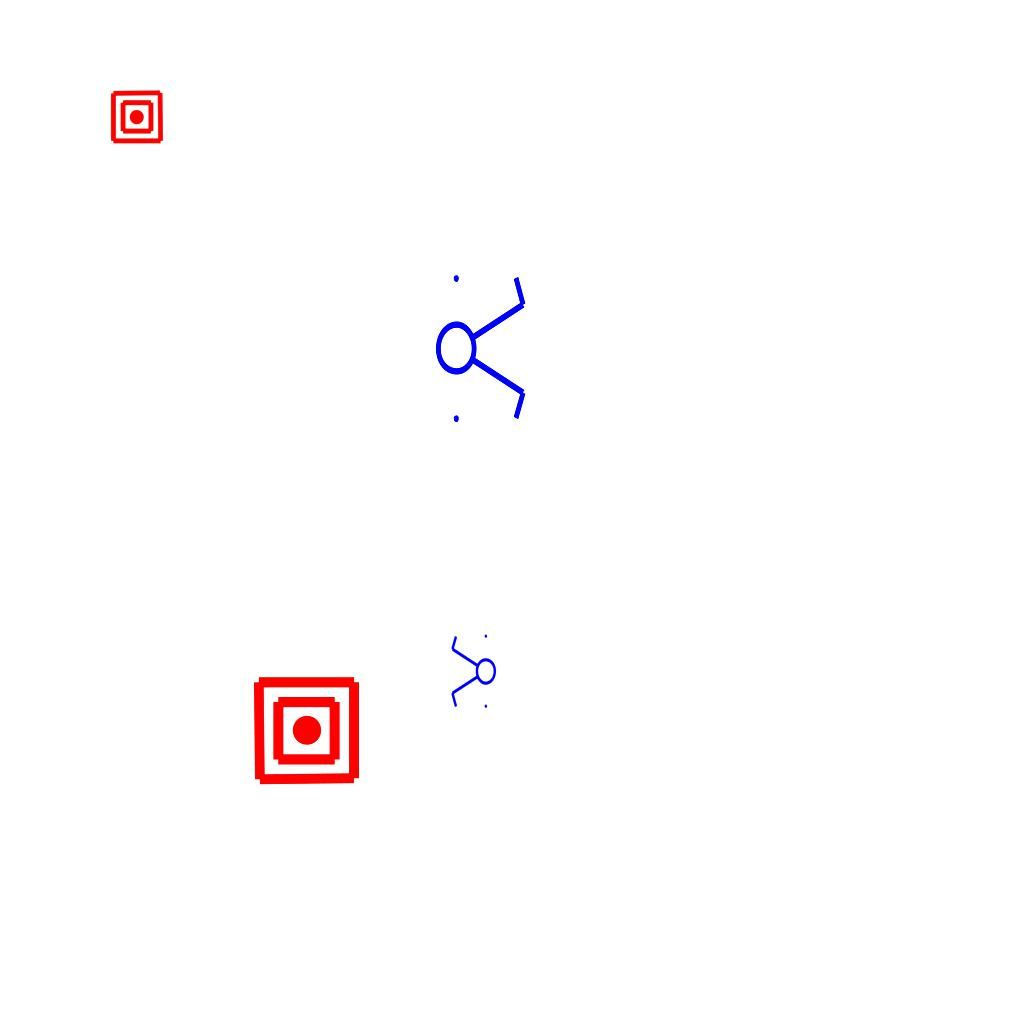NAM-Nichtautomatischer_Melder: (250, 674, 363, 787), (109, 89, 165, 145)
Serienschalter: (434, 263, 530, 431), (449, 630, 497, 714)
